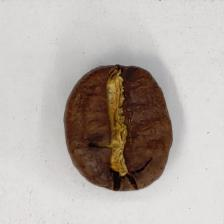NG: (78, 66, 148, 181)
